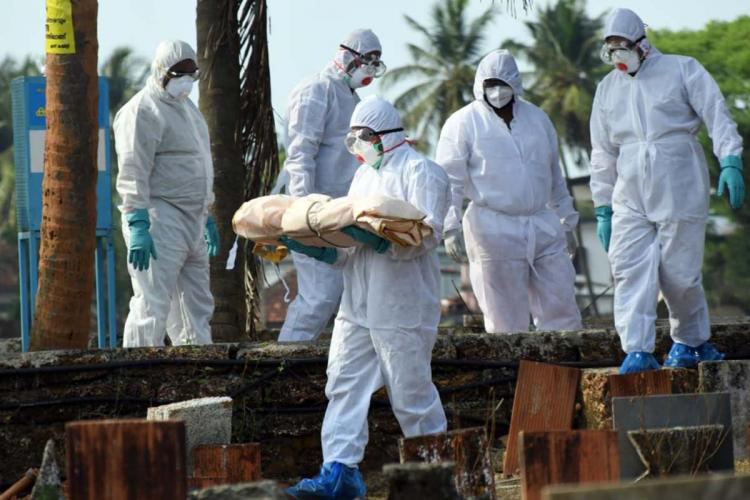Coverall: (585, 7, 743, 363), (320, 100, 450, 500), (437, 48, 581, 338), (107, 39, 218, 350), (280, 27, 384, 352)
Gloves: (124, 209, 157, 271), (712, 150, 747, 207), (279, 235, 336, 269), (340, 221, 393, 256), (594, 206, 615, 257)
with_mask: (481, 83, 516, 114), (163, 68, 194, 101), (347, 58, 376, 91), (613, 52, 645, 81)
